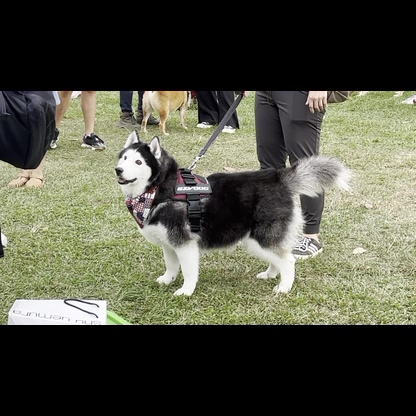husky: (110, 121, 353, 303)
